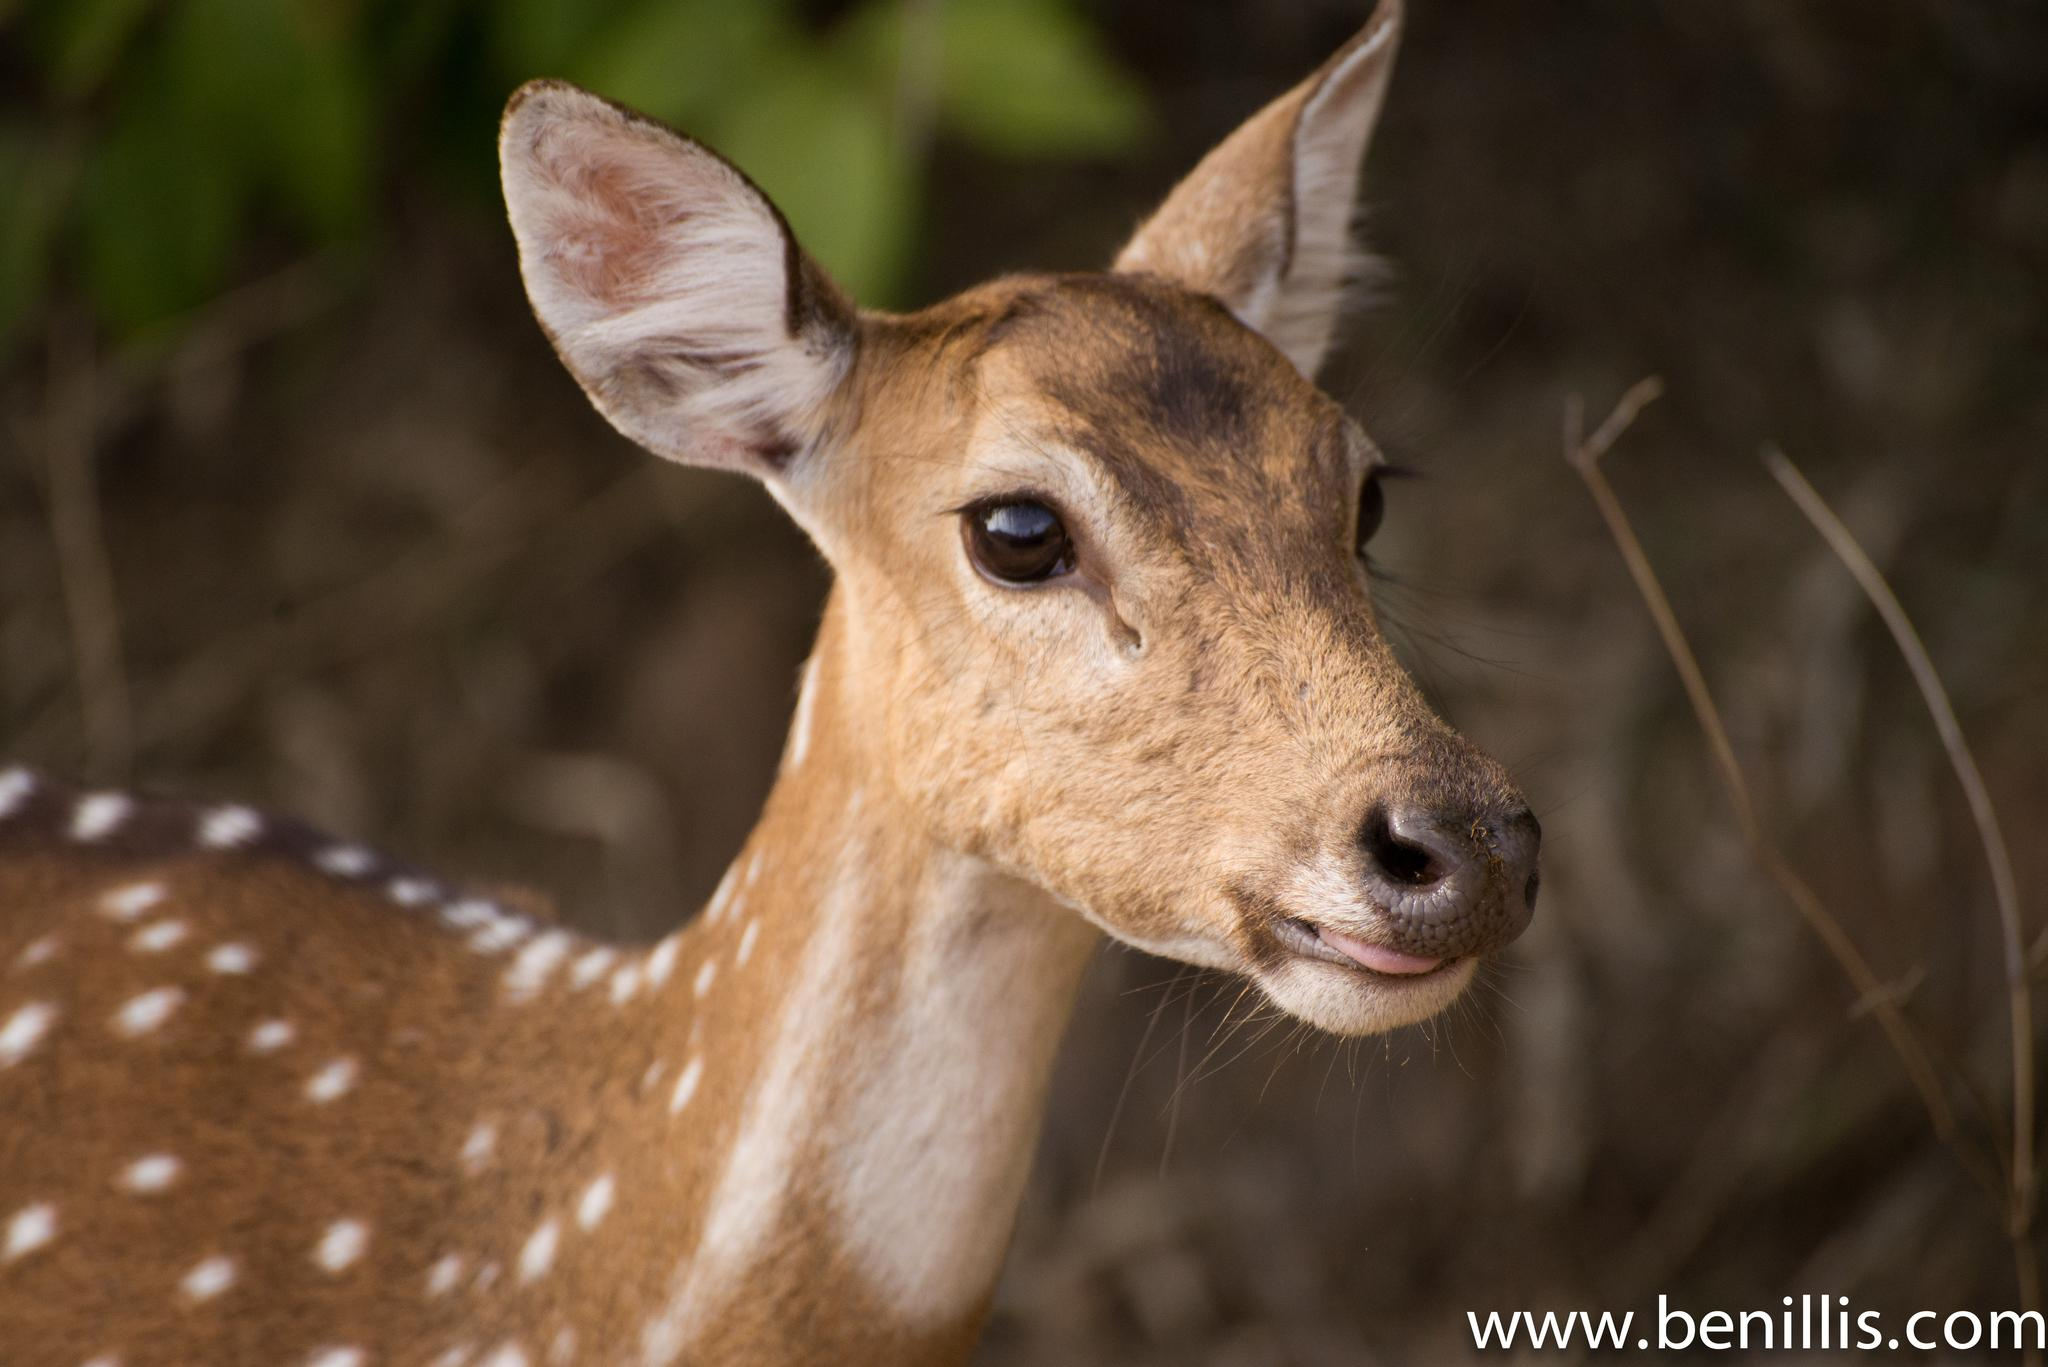Deer: (0, 0, 1540, 1361)
